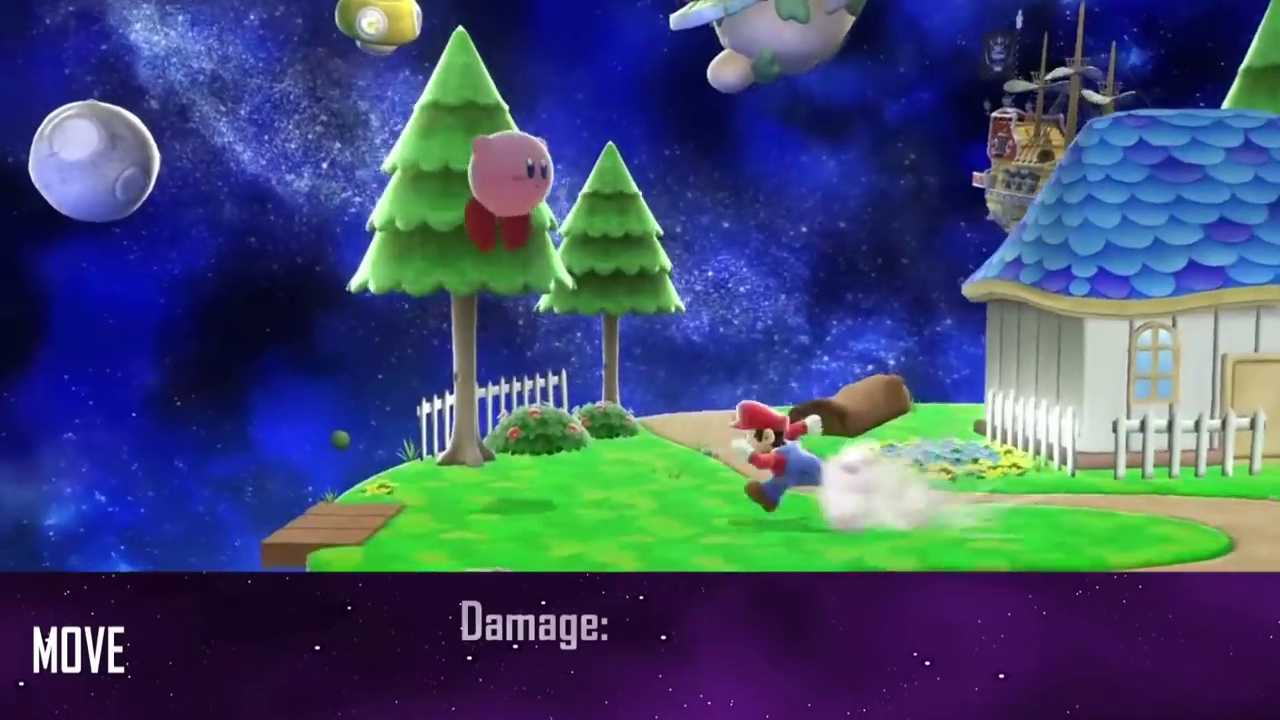Mario: (729, 402, 823, 512)
